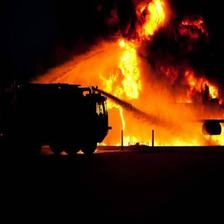fire: (73, 10, 205, 147)
